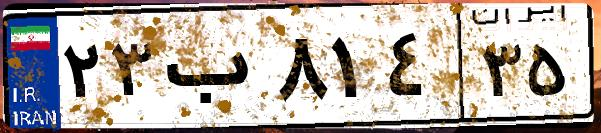1: (330, 28, 385, 110)
2: (57, 26, 110, 100)
3: (475, 38, 525, 113), (110, 28, 158, 98)
4: (385, 28, 445, 110)
5: (525, 38, 570, 115)
8: (270, 28, 330, 110)
ب: (158, 20, 270, 120)
